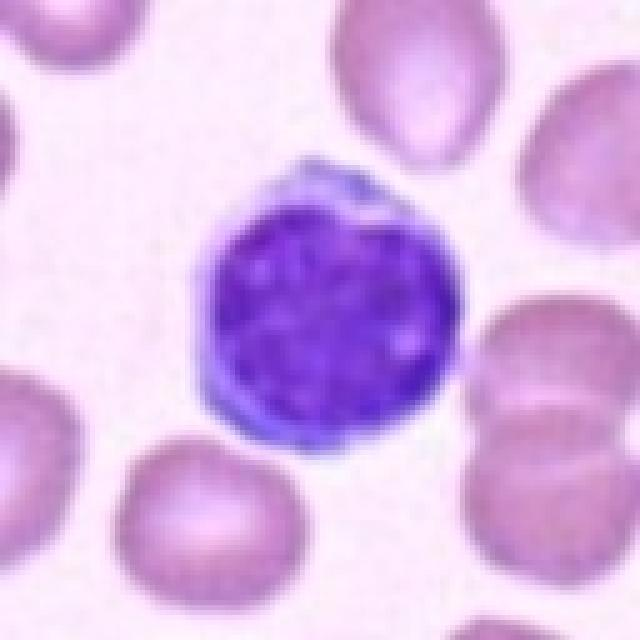lympho: (183, 149, 468, 458)
